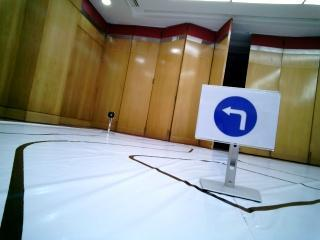left: (200, 84, 268, 147)
